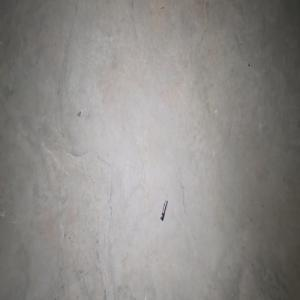Battery: (160, 198, 168, 221)
